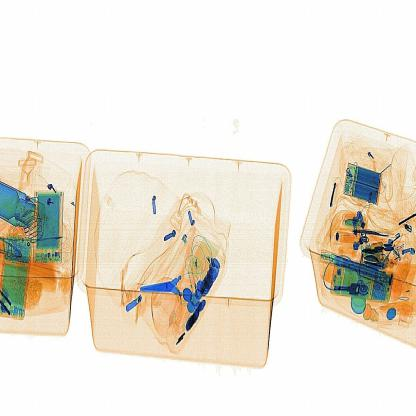gun: (138, 263, 205, 315)
